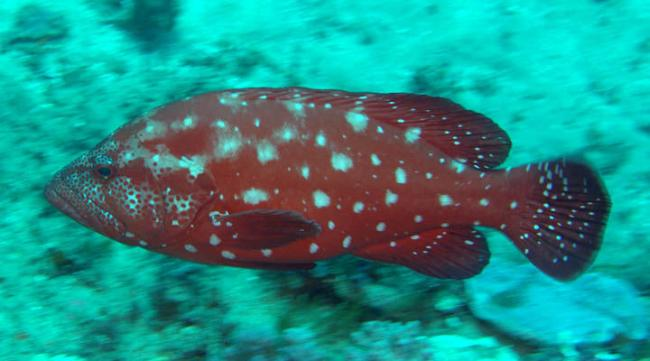fish: (44, 88, 611, 285)
